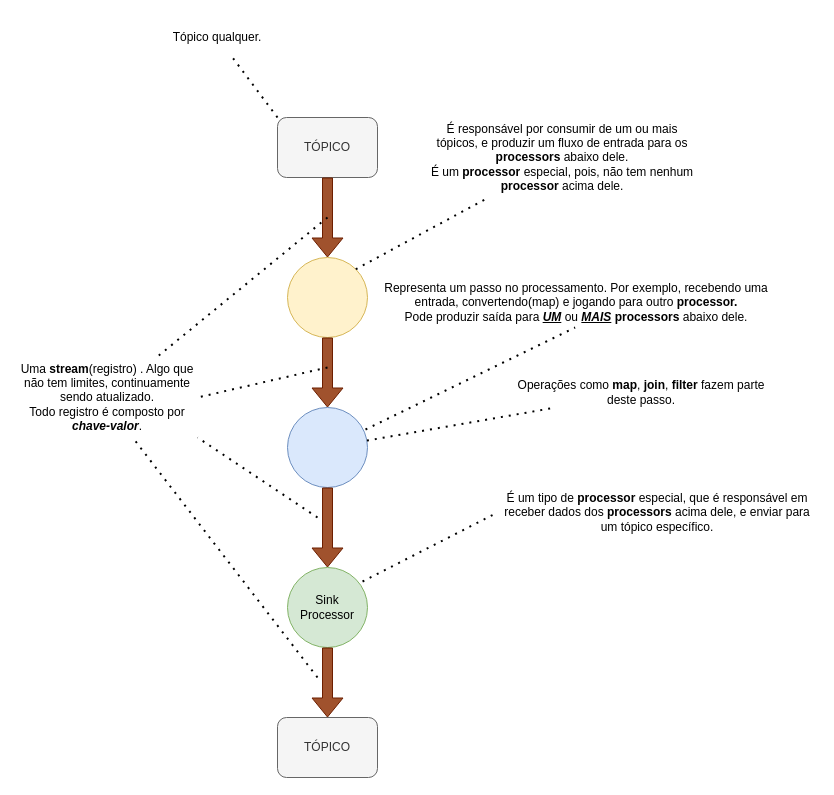
The diagram is 834 pixels wide and 795 high, and some of its shapes have lost their labels. Here are the shapes that lost their labels. From the top down, the centre of each, then its label:
At point (327, 297): "Source Processor".
At point (327, 447): "Stream Processor".
